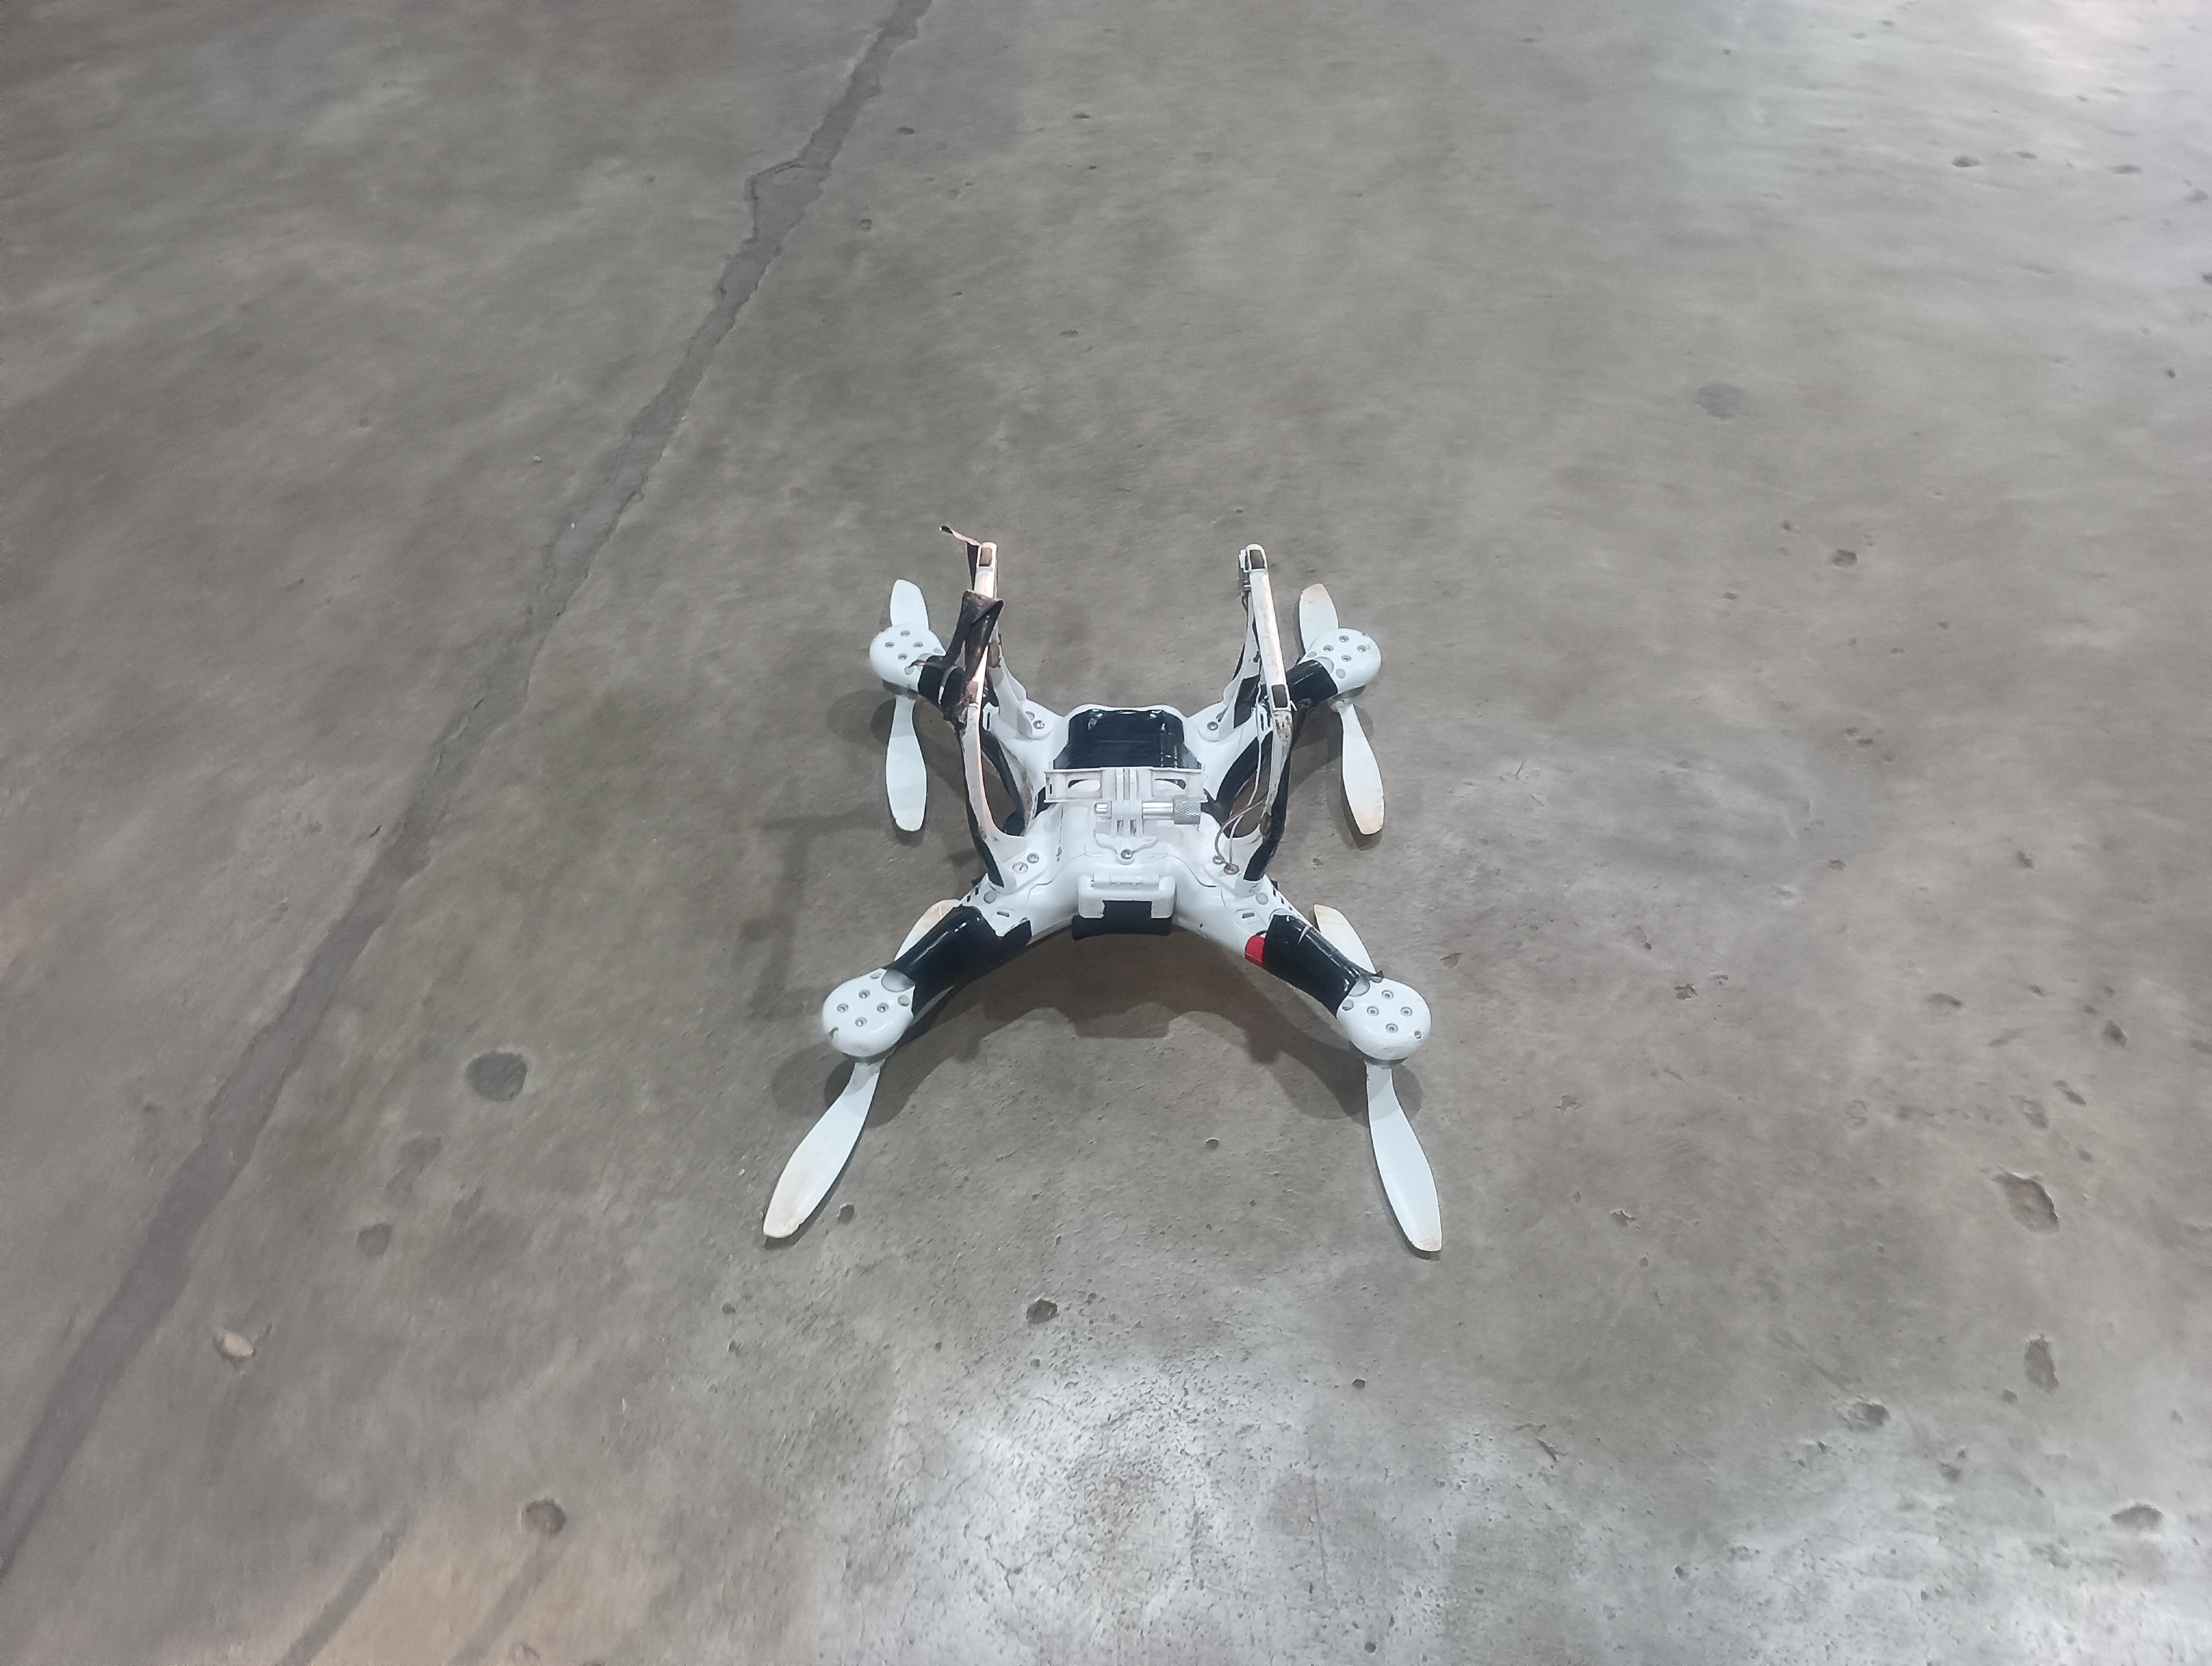drone: (701, 501, 1589, 1325)
